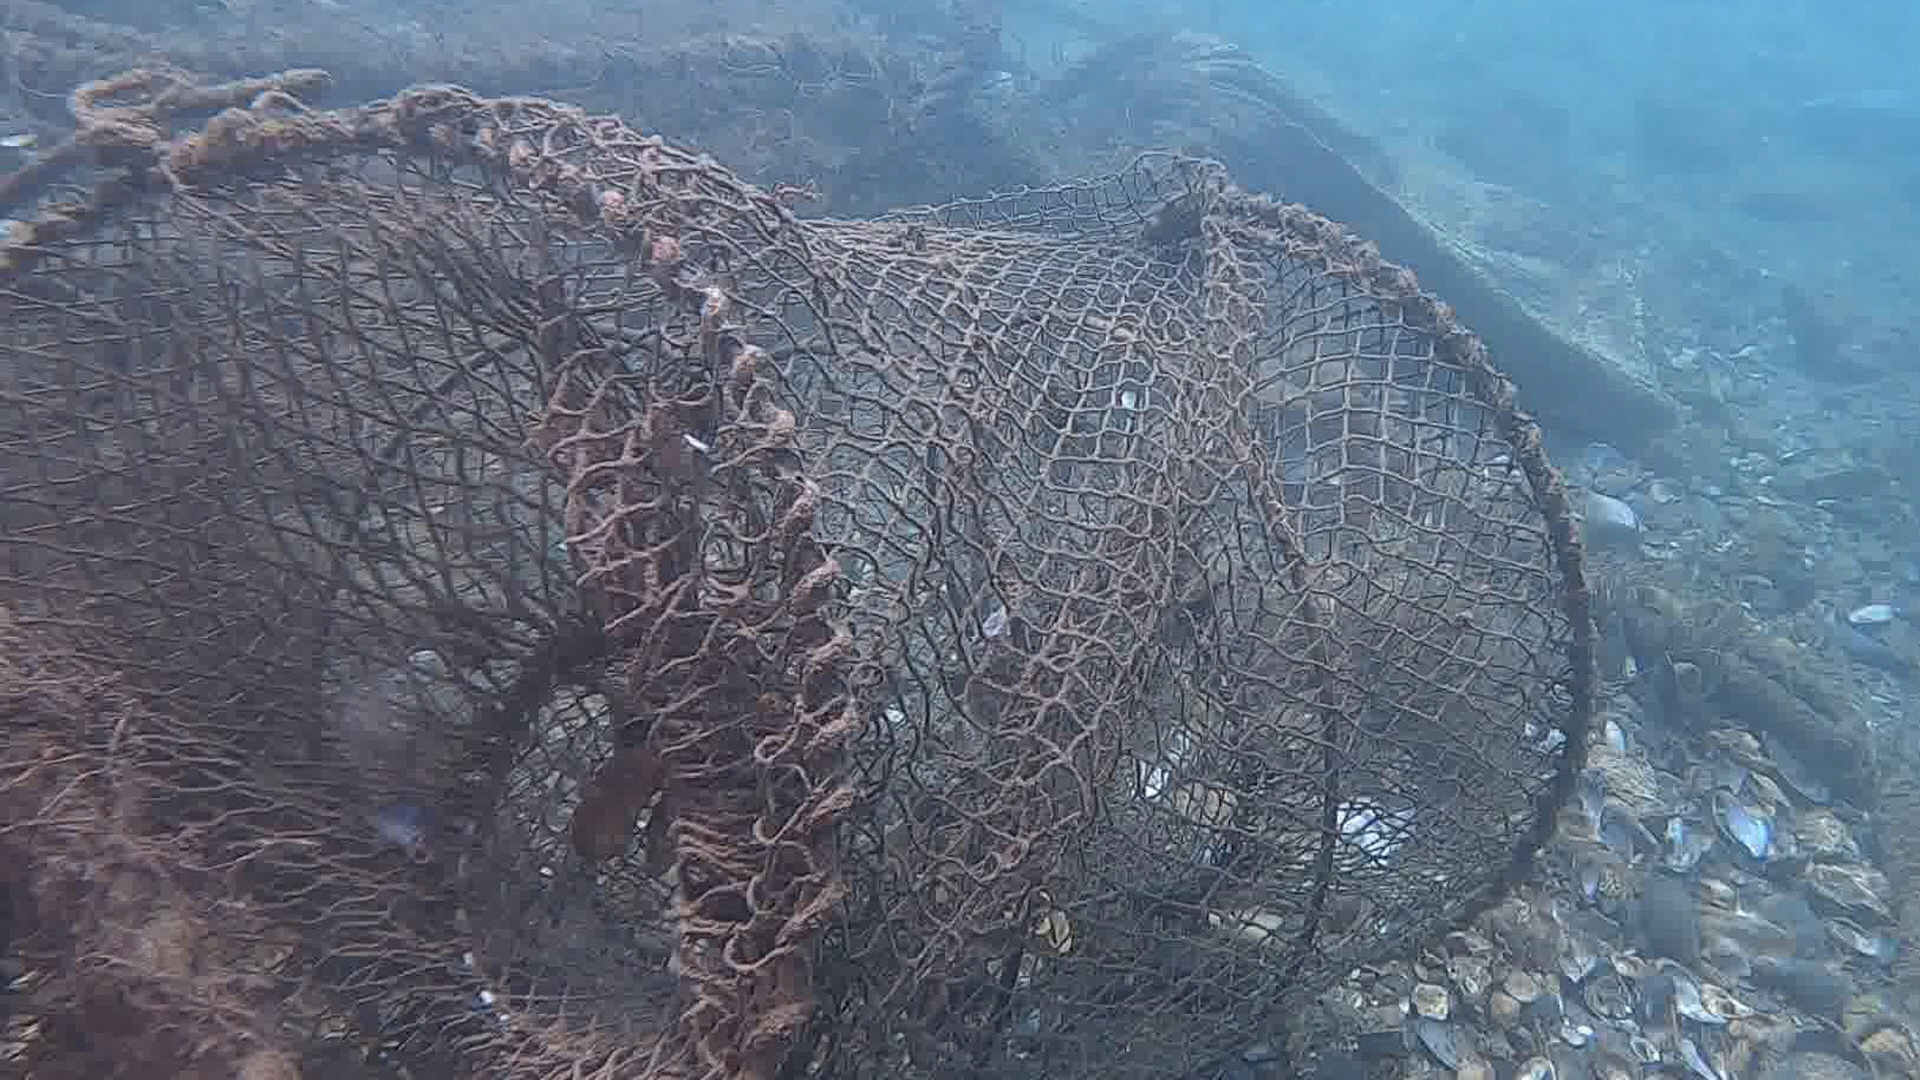spring fish trap: (0, 104, 1597, 1080)
